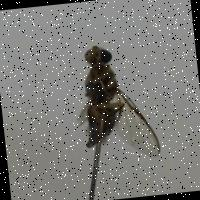Oriental-fruit-fly: (63, 35, 166, 170)
